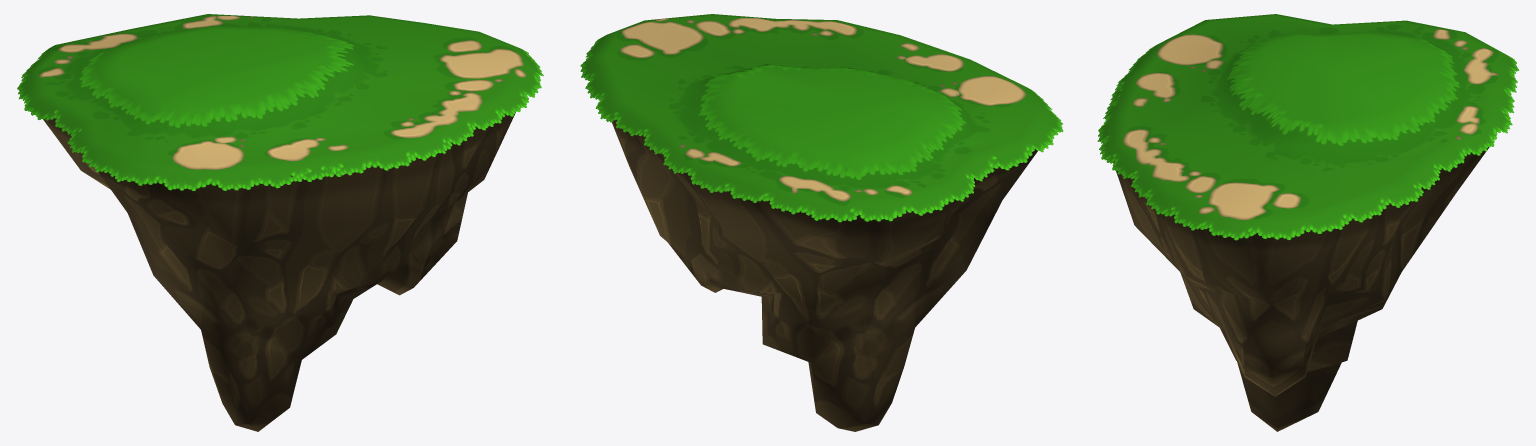
Rendered from Island_01.FBX.
3 views of the same model, side by side, from view 1: azimuth 30°, elevation 25°; view 2: azimuth 150°, elevation 25°; view 3: azimuth 270°, elevation 25° (orthographic).
Parts seen in each view (by area): view 1: Island_01; view 2: Island_01; view 3: Island_01.
Part boxes in pixels (x1,y1,x2,y2): Island_01: (17,14,543,431); Island_01: (580,14,1063,431); Island_01: (1097,14,1519,431).
Bounding box in the file's own units: 886 × 644 × 702.
